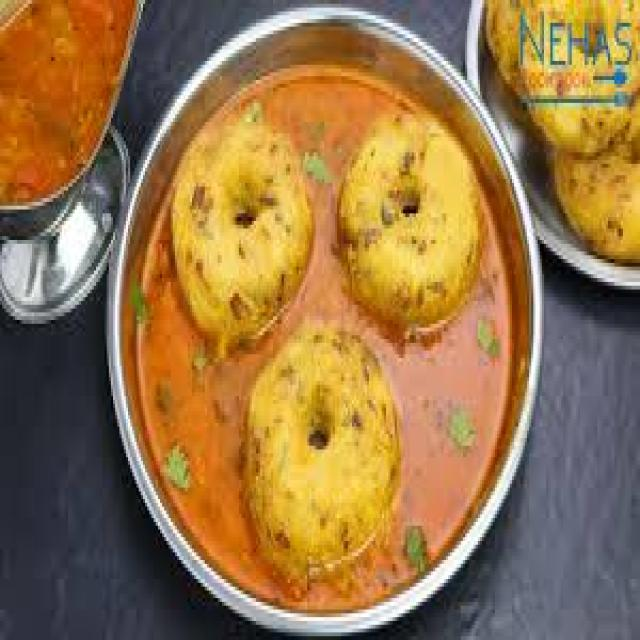MEDU VADA: (247, 326, 398, 586), (172, 113, 310, 359), (340, 117, 477, 323)
